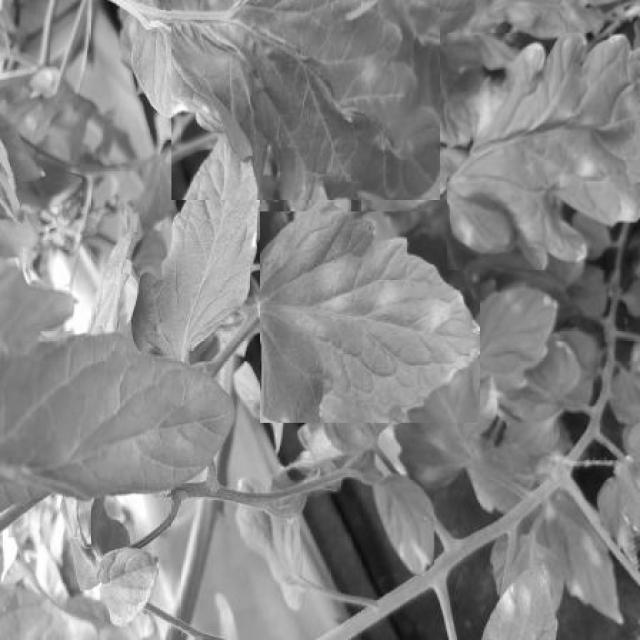Leaf Mold: (171, 0, 440, 200), (260, 211, 480, 423), (448, 34, 639, 270), (372, 471, 434, 576)
